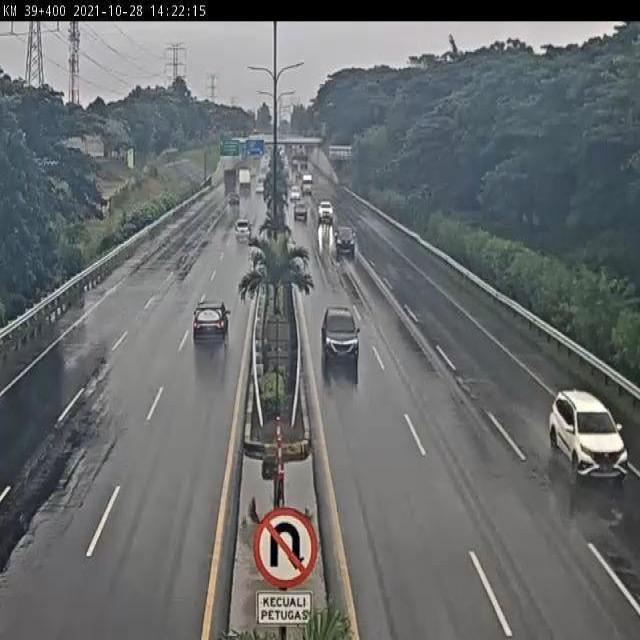car: (547, 386, 631, 490), (318, 309, 362, 368), (191, 300, 230, 352), (330, 224, 357, 259), (233, 219, 255, 245), (316, 199, 334, 223)
